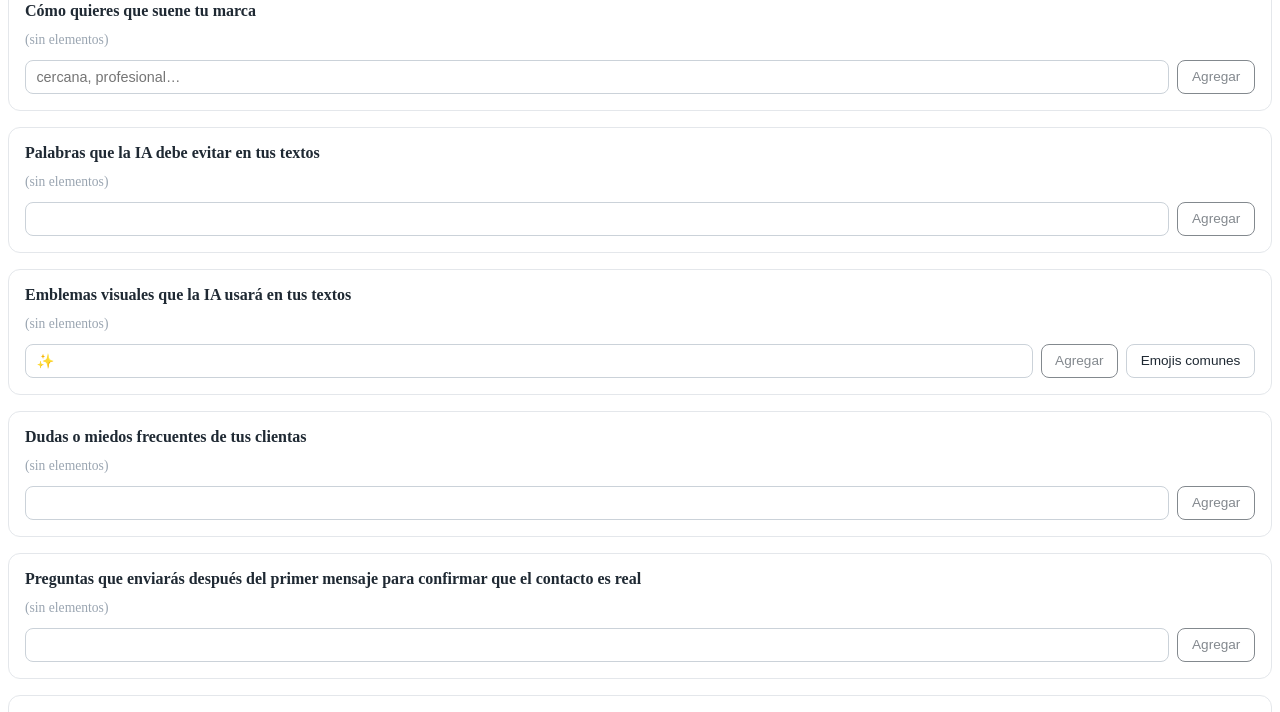
BusinessProfileForm › deshabilita "Agregar" en emblemas visuales hasta que se ingresa un emoji válido
(page scrolled)
expect the 3rd button "Agregar" is disabled: met, box left=1040, top=344, right=1118, bottom=378
Type "hola" into the field named "agregar emblemas visuales" at {"x": 529, "y": 361}, box left=25, top=344, right=1032, bottom=378
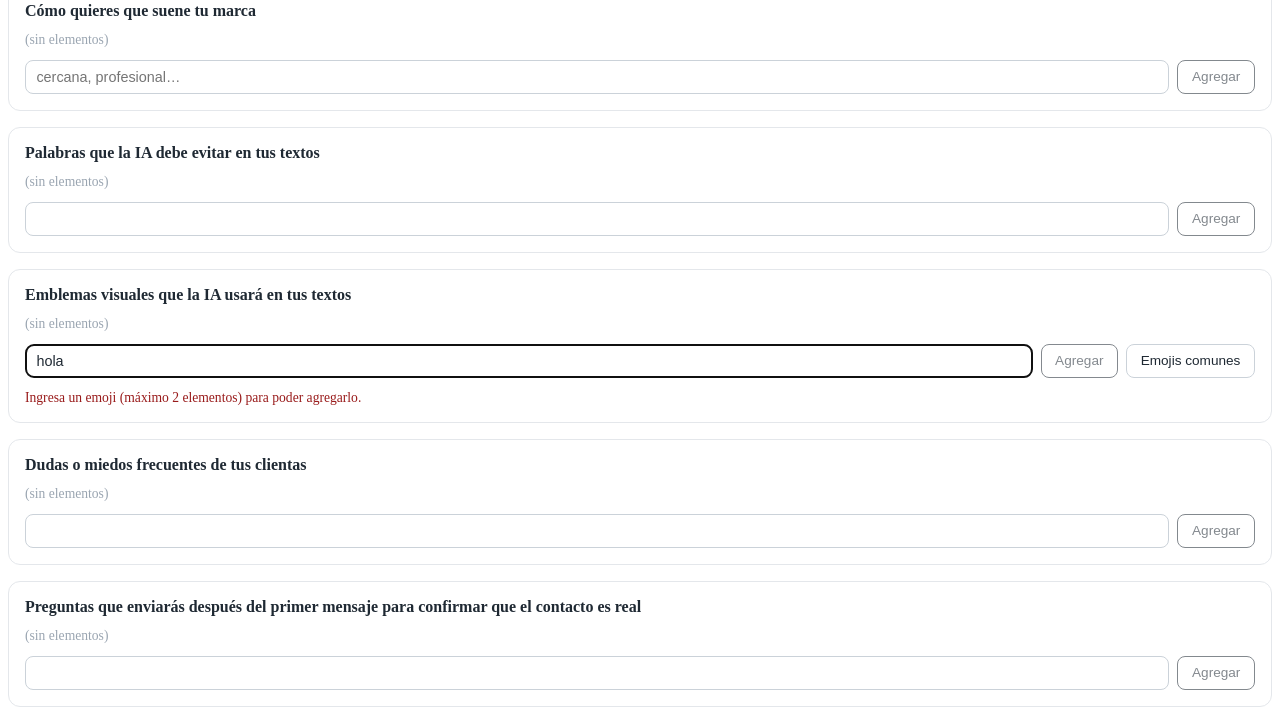
expect the 3rd button "Agregar" is disabled: met, box left=1040, top=344, right=1118, bottom=378
Replace the text in the field named "agregar emblemas visuales" with "✨" at {"x": 529, "y": 361}, box left=25, top=344, right=1032, bottom=378
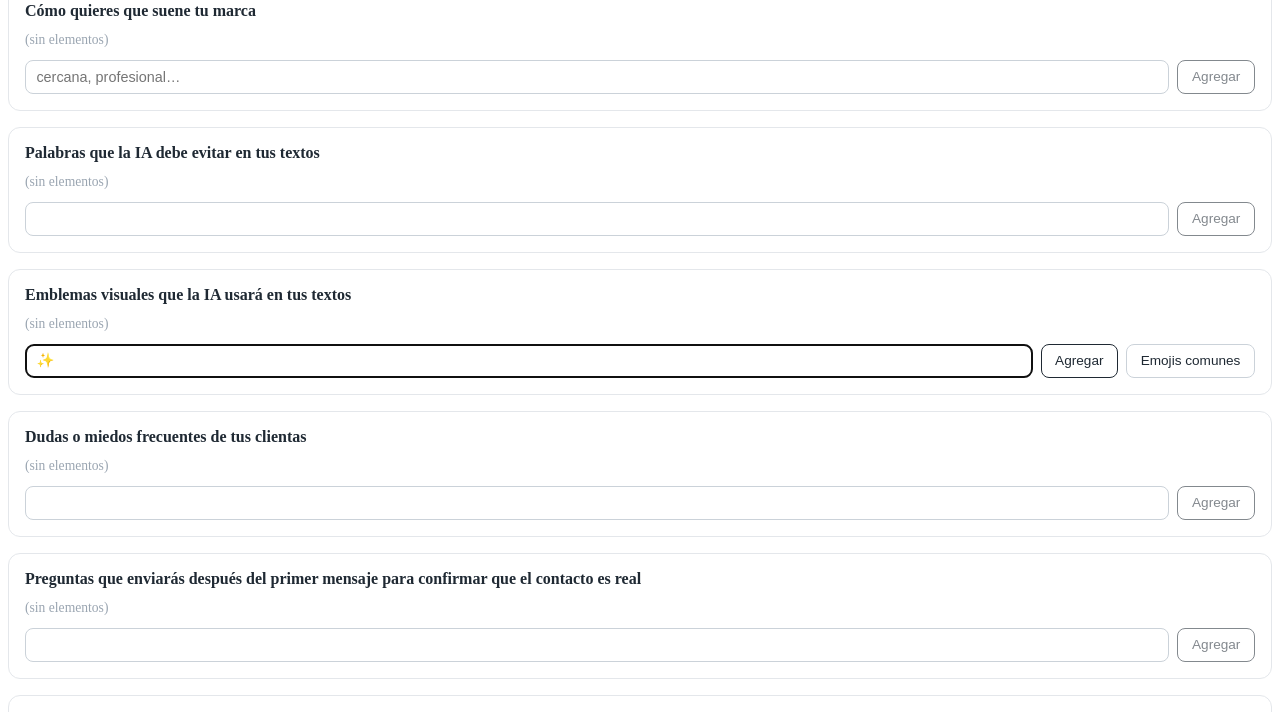
expect the 3rd button "Agregar" is enabled: met, box left=1040, top=344, right=1118, bottom=378
